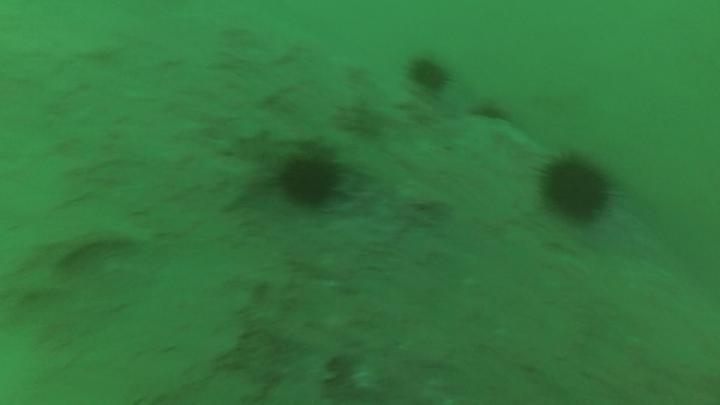echinus: (530, 144, 622, 231), (268, 142, 350, 217), (402, 50, 458, 97)
